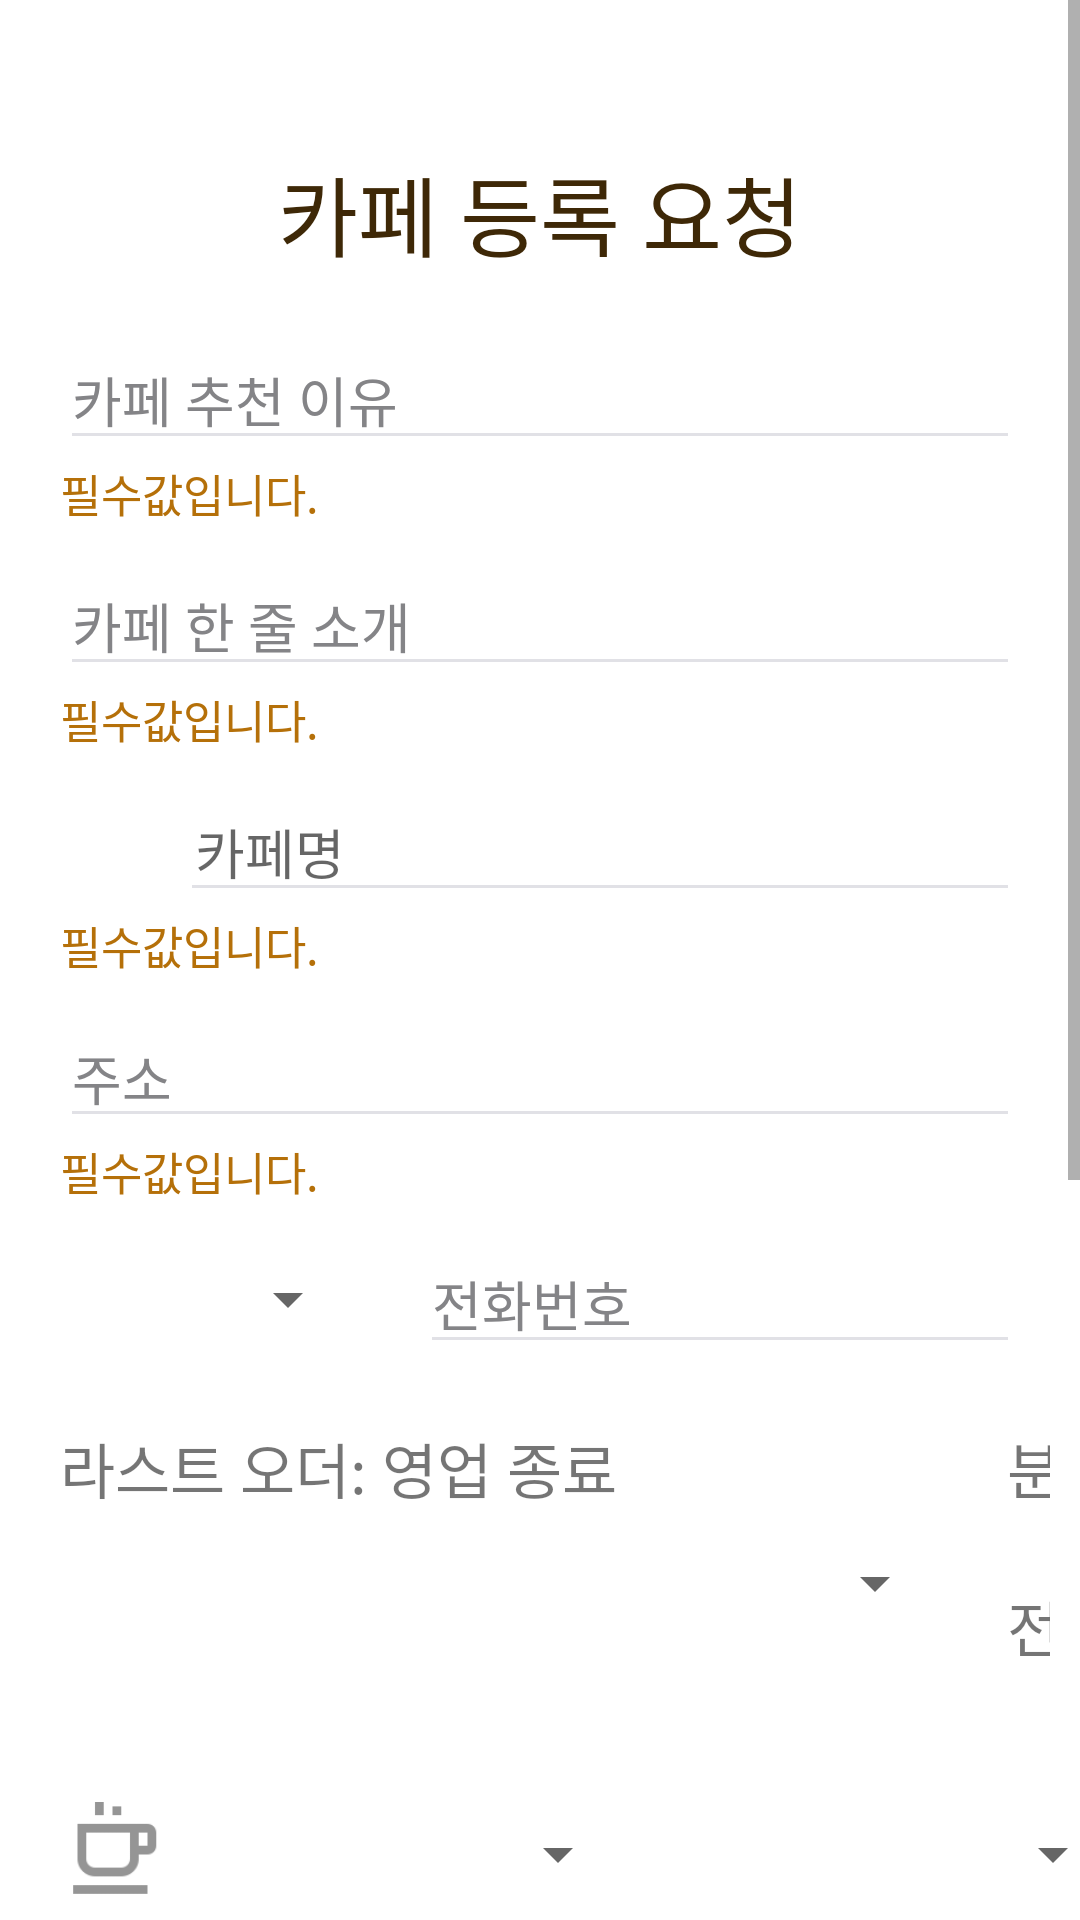

Locate icon controls on the screen. Image size 1080 × 1920, boxes as (x1, y1, x2, y2).
cafe: (73, 1802, 157, 1894)
